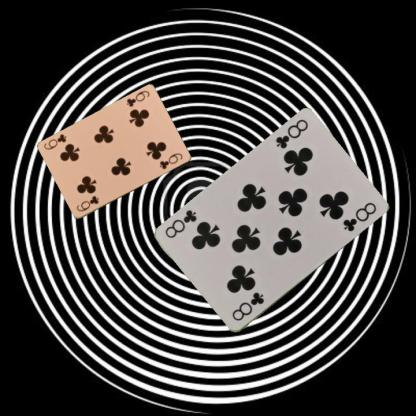6c: (74, 193, 100, 213), (124, 88, 150, 108)
8c: (272, 117, 310, 151), (229, 289, 266, 323)
